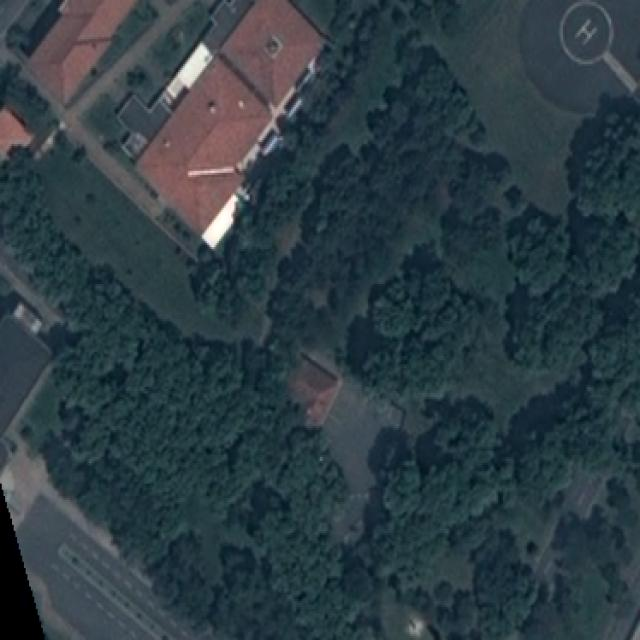Batiment: (136, 2, 324, 246), (29, 0, 136, 103), (289, 355, 341, 427), (0, 107, 34, 159)
